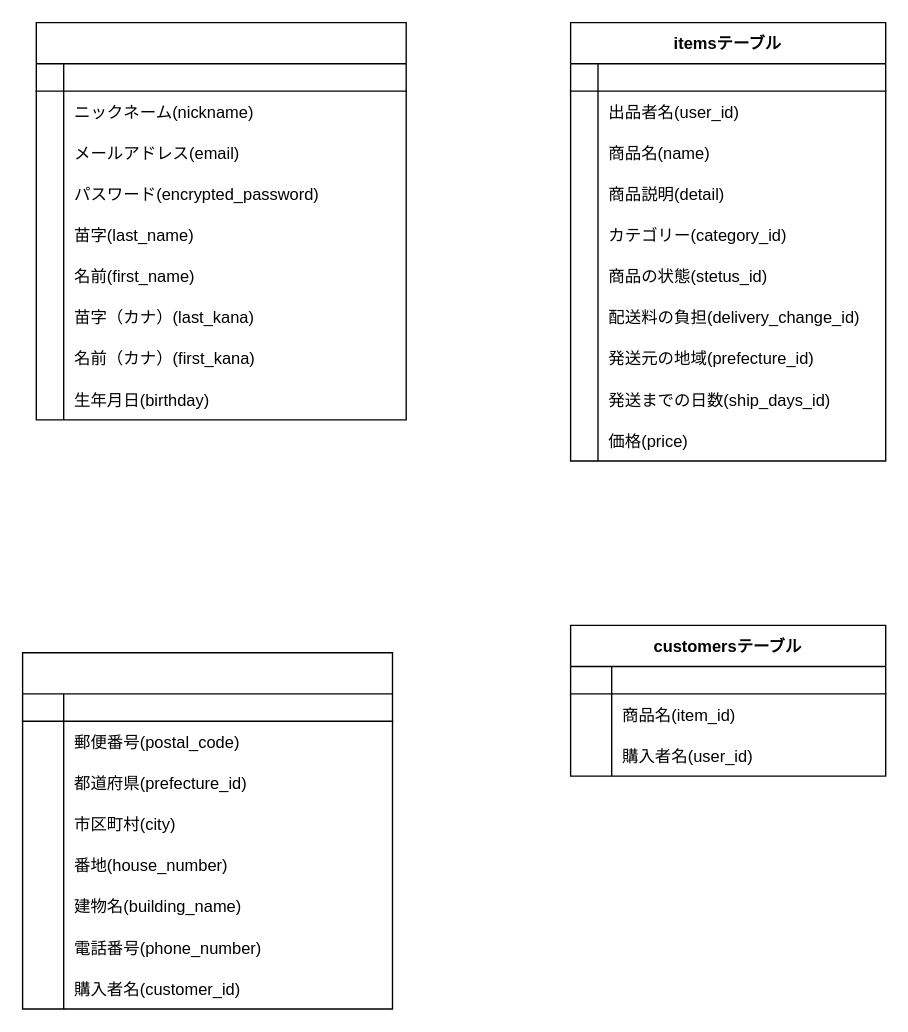
This 908x1032 diagram has some shape labels left out. The shapes that lost their labels are listed below. From the top down, each one's box as (x1, y1, x2, y2) in pixels, then its label:
(35, 21, 406, 420): usersテーブル
(21, 651, 393, 1009): addressesテーブル
